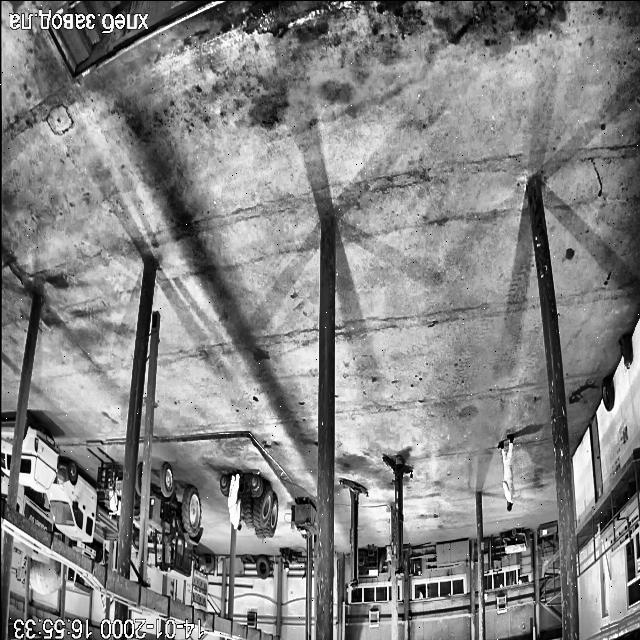class4: (497, 435, 512, 510), (228, 470, 240, 530)
class6: (148, 462, 202, 579), (238, 474, 278, 538), (220, 476, 231, 497), (136, 463, 142, 497)
class7: (47, 461, 116, 541), (20, 412, 59, 492), (16, 484, 52, 532), (30, 557, 62, 594), (94, 502, 117, 542), (13, 537, 48, 562), (0, 421, 14, 474), (66, 567, 92, 594), (73, 542, 104, 563), (16, 556, 25, 583), (0, 476, 8, 498)
tractor: (619, 334, 632, 368)
truck: (383, 455, 412, 576), (340, 479, 368, 588)
